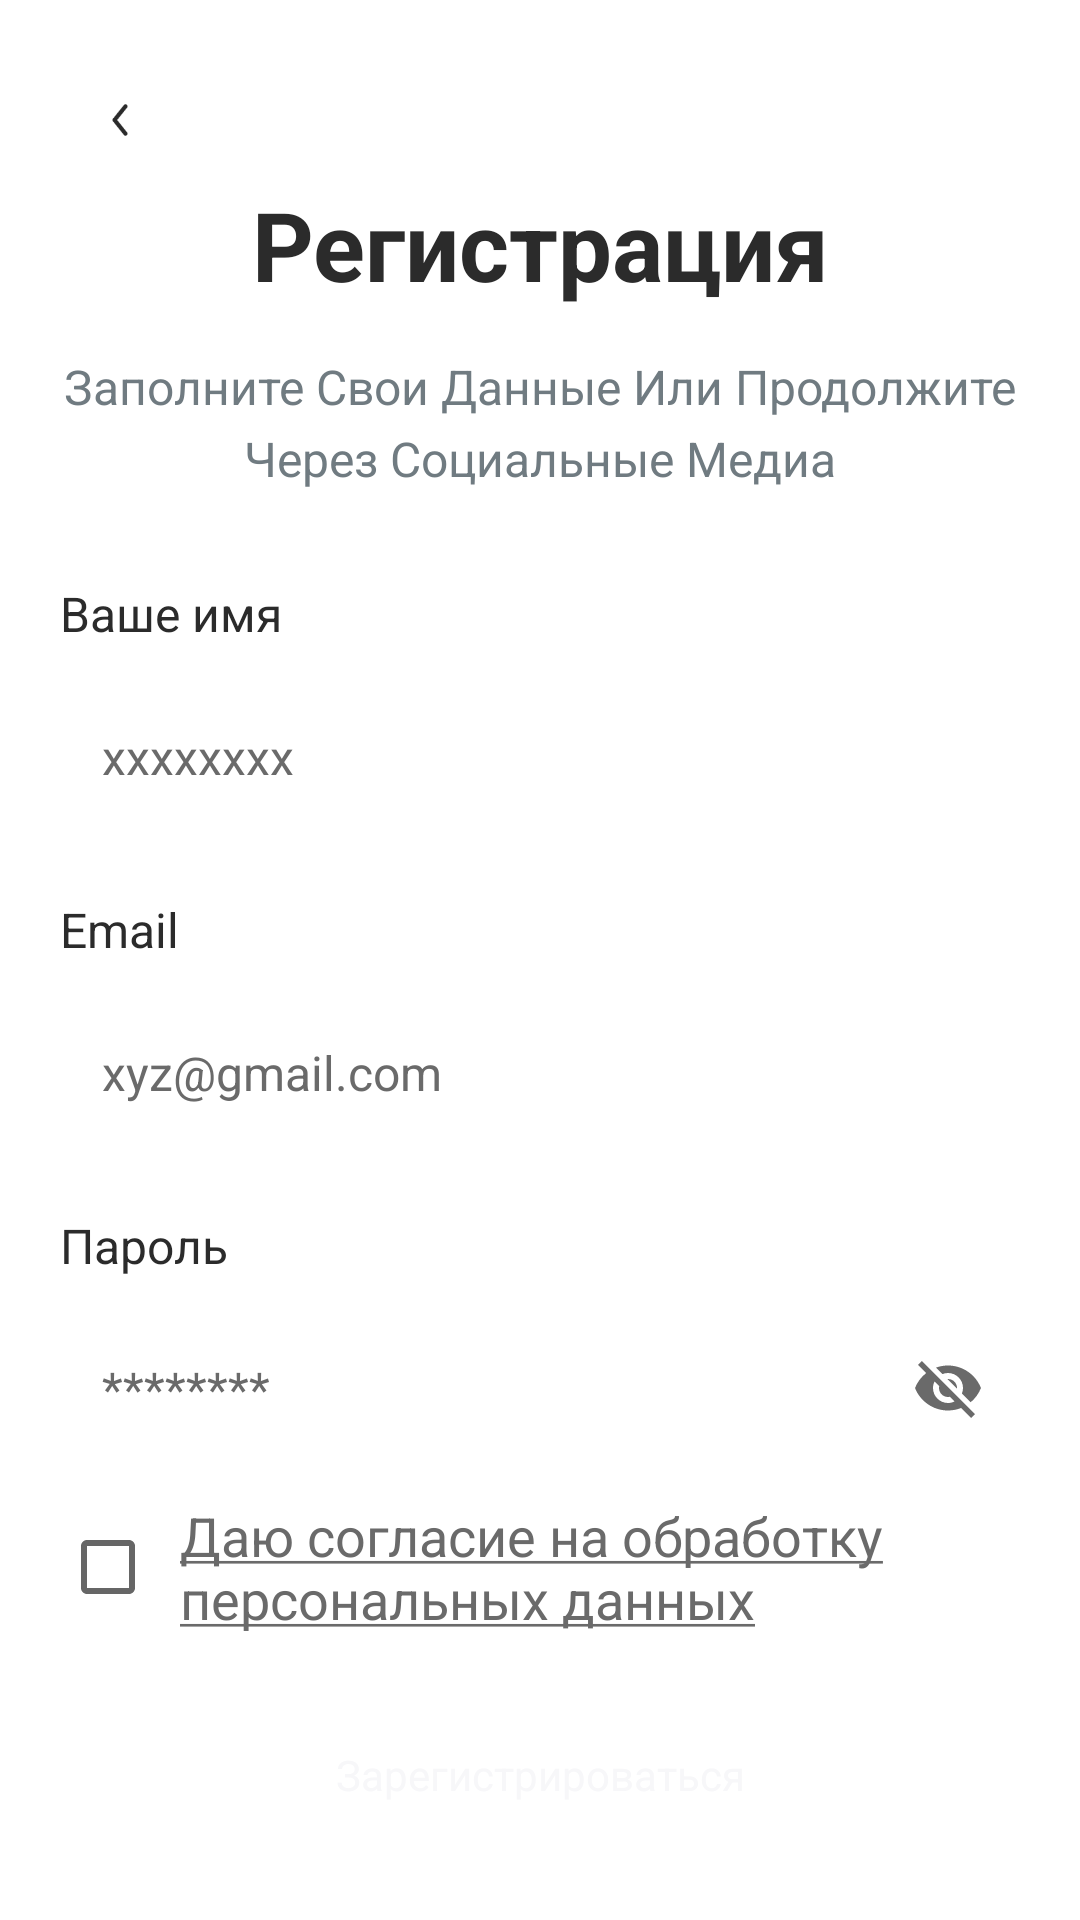

Point at icon controls on the screen. Image size 1080×1920, points as (x,y).
back: (120,120)
